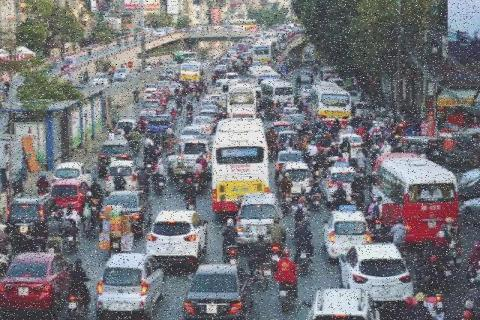LicensePlate: (377, 284, 393, 300), (161, 244, 180, 256), (250, 223, 266, 235), (66, 300, 80, 312), (204, 306, 220, 316), (114, 301, 127, 313), (425, 217, 437, 230), (292, 180, 304, 193), (228, 256, 240, 268), (276, 288, 286, 298), (238, 195, 248, 204), (20, 224, 28, 234), (110, 156, 118, 162), (352, 146, 358, 154), (191, 160, 198, 166), (379, 123, 385, 129), (342, 185, 349, 189), (296, 125, 302, 129), (361, 110, 365, 114)
